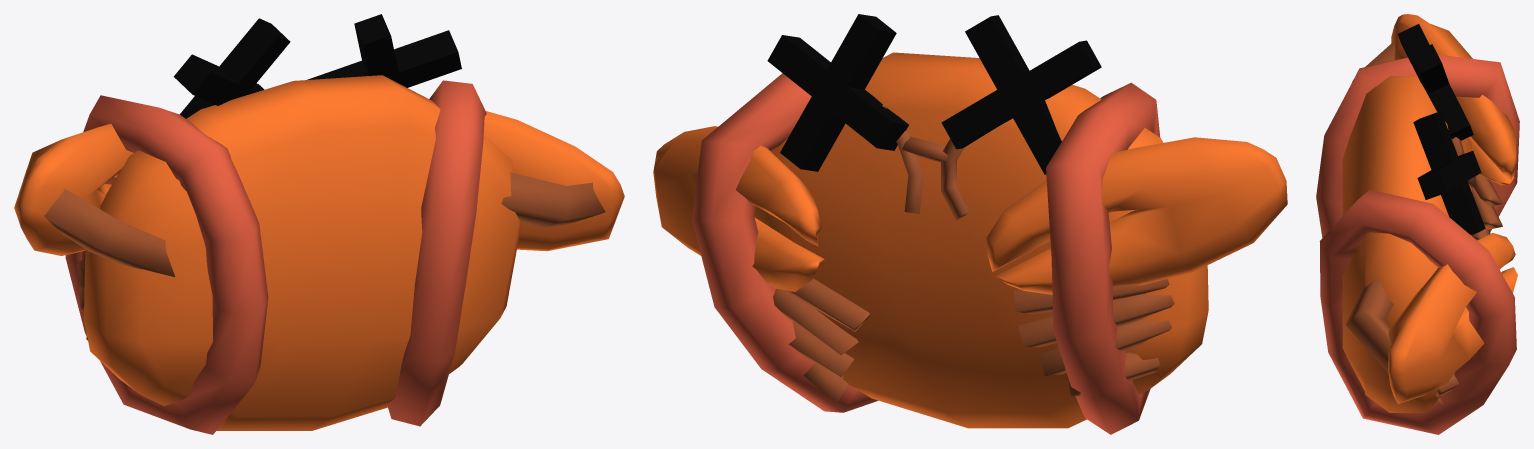
Rendered from crab_cooked.fbx.
3 views of the same model, side by side, from view 1: azimuth 30°, elevation 25°; view 2: azimuth 150°, elevation 25°; view 3: azimuth 270°, elevation 25° (orthographic). The views are drawn at different scales.
Visible parts, largest first — view 1: crab_cooked; view 2: crab_cooked; view 3: crab_cooked.
Part boxes in pixels (left/top/right/bottom): crab_cooked: left=14, top=14, right=624, bottom=434; crab_cooked: left=653, top=14, right=1287, bottom=434; crab_cooked: left=1316, top=14, right=1519, bottom=434.
Bounding box in the file's own units: 382 × 248 × 139.
